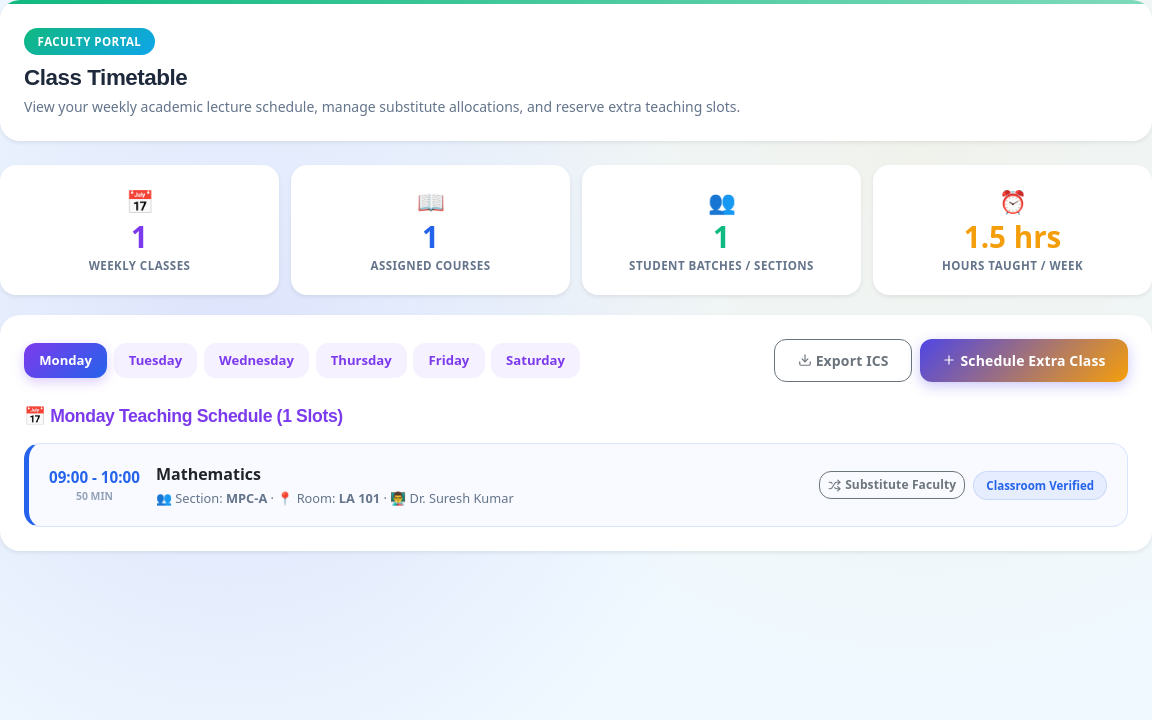
Scenario: FacultyClassTimetable Component Tests › schedules an extra class slot and verifies toast alert
Click the button with test id "open-add-slot-btn". click: (1024, 360)
box: [920,339,1128,382]
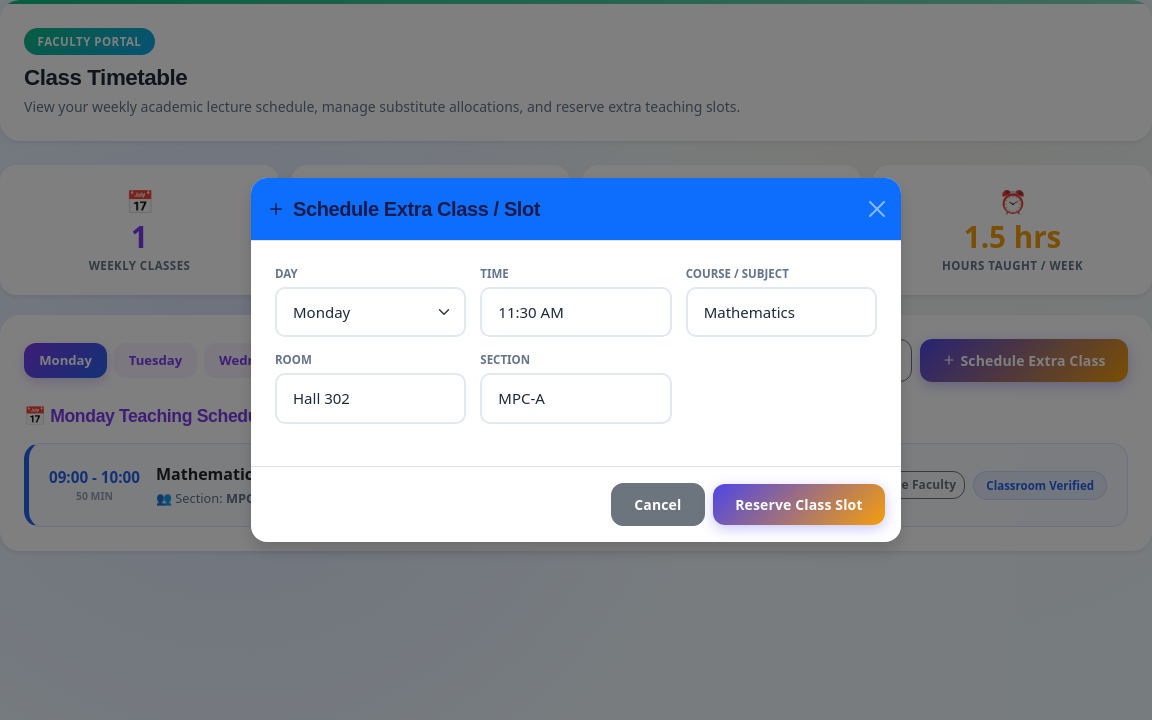
Expected: the form with test id "schedule-slot-form" is shown, [251,240,901,542]
Expected: the heading "Schedule Extra Class / Slot" is shown, [267,194,540,224]
Click the button with test id "submit-slot-btn". click: (799, 505)
box: [713,484,885,526]
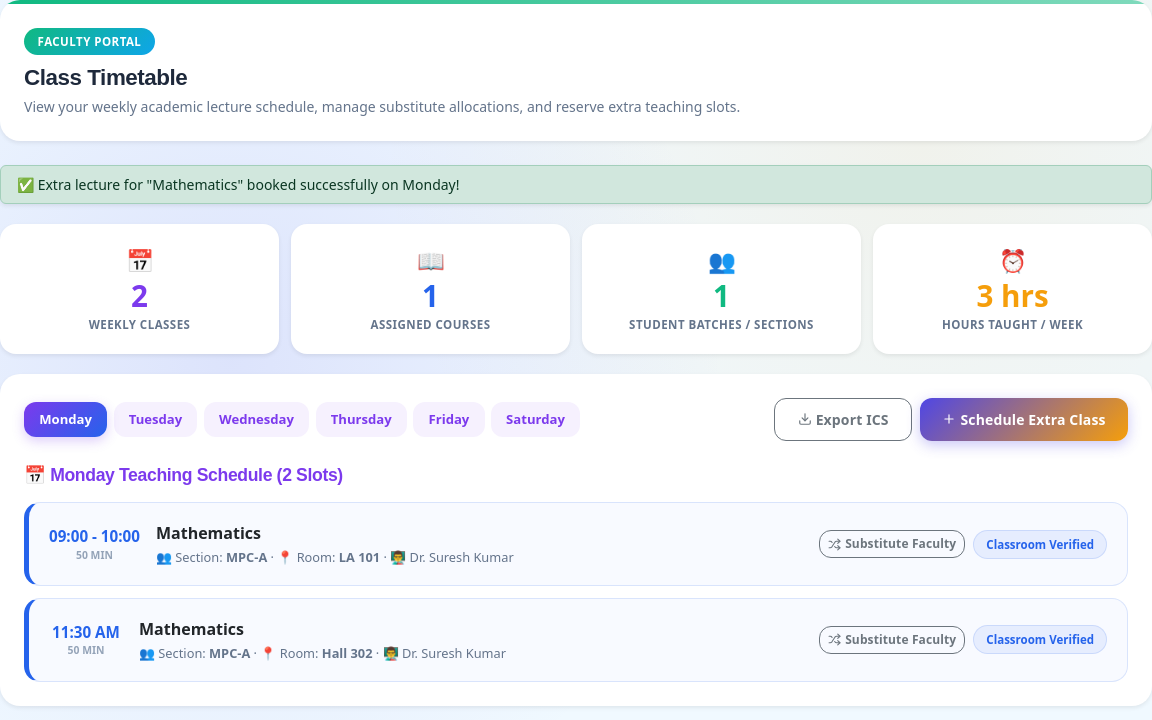
Expected: the text "✅ Extra lecture for \"Mathematics\" booked successfully on Monday!" is shown, [0,165,1151,204]
